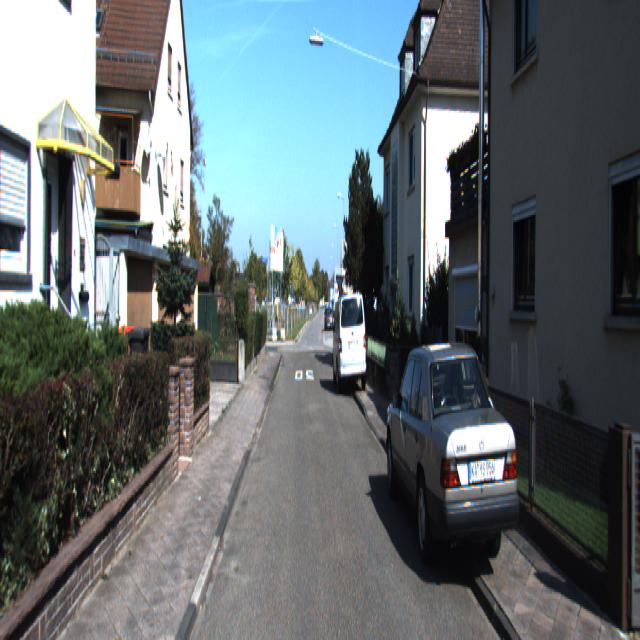Car: (384, 328, 524, 609), (332, 287, 367, 394)
